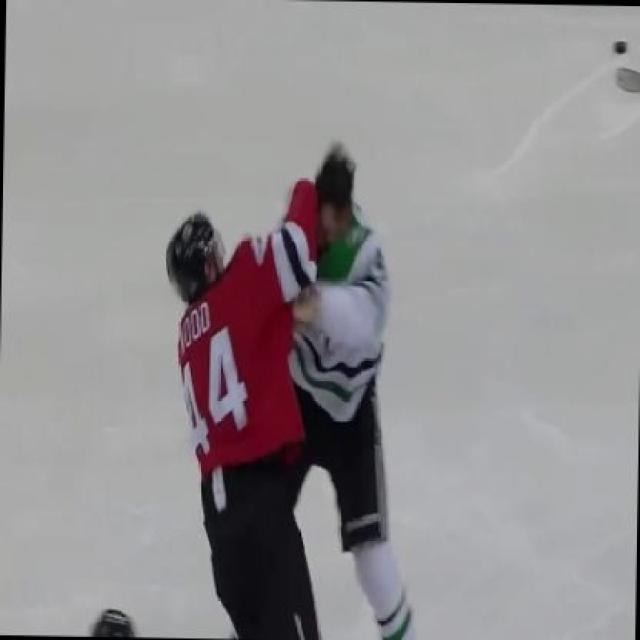fight: (149, 124, 449, 638)
